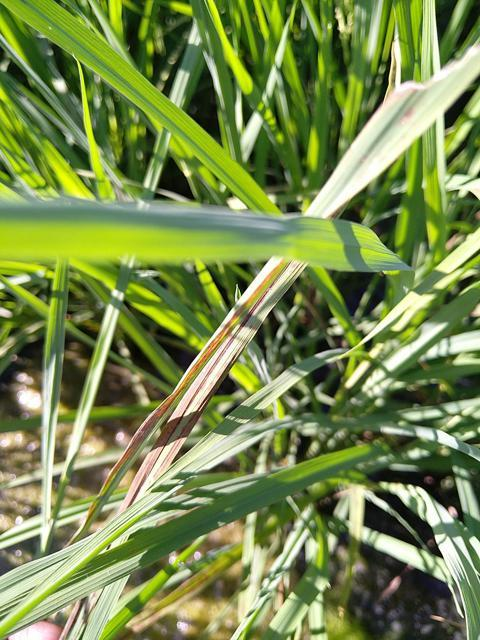Leaf Streak: (89, 256, 304, 533)
